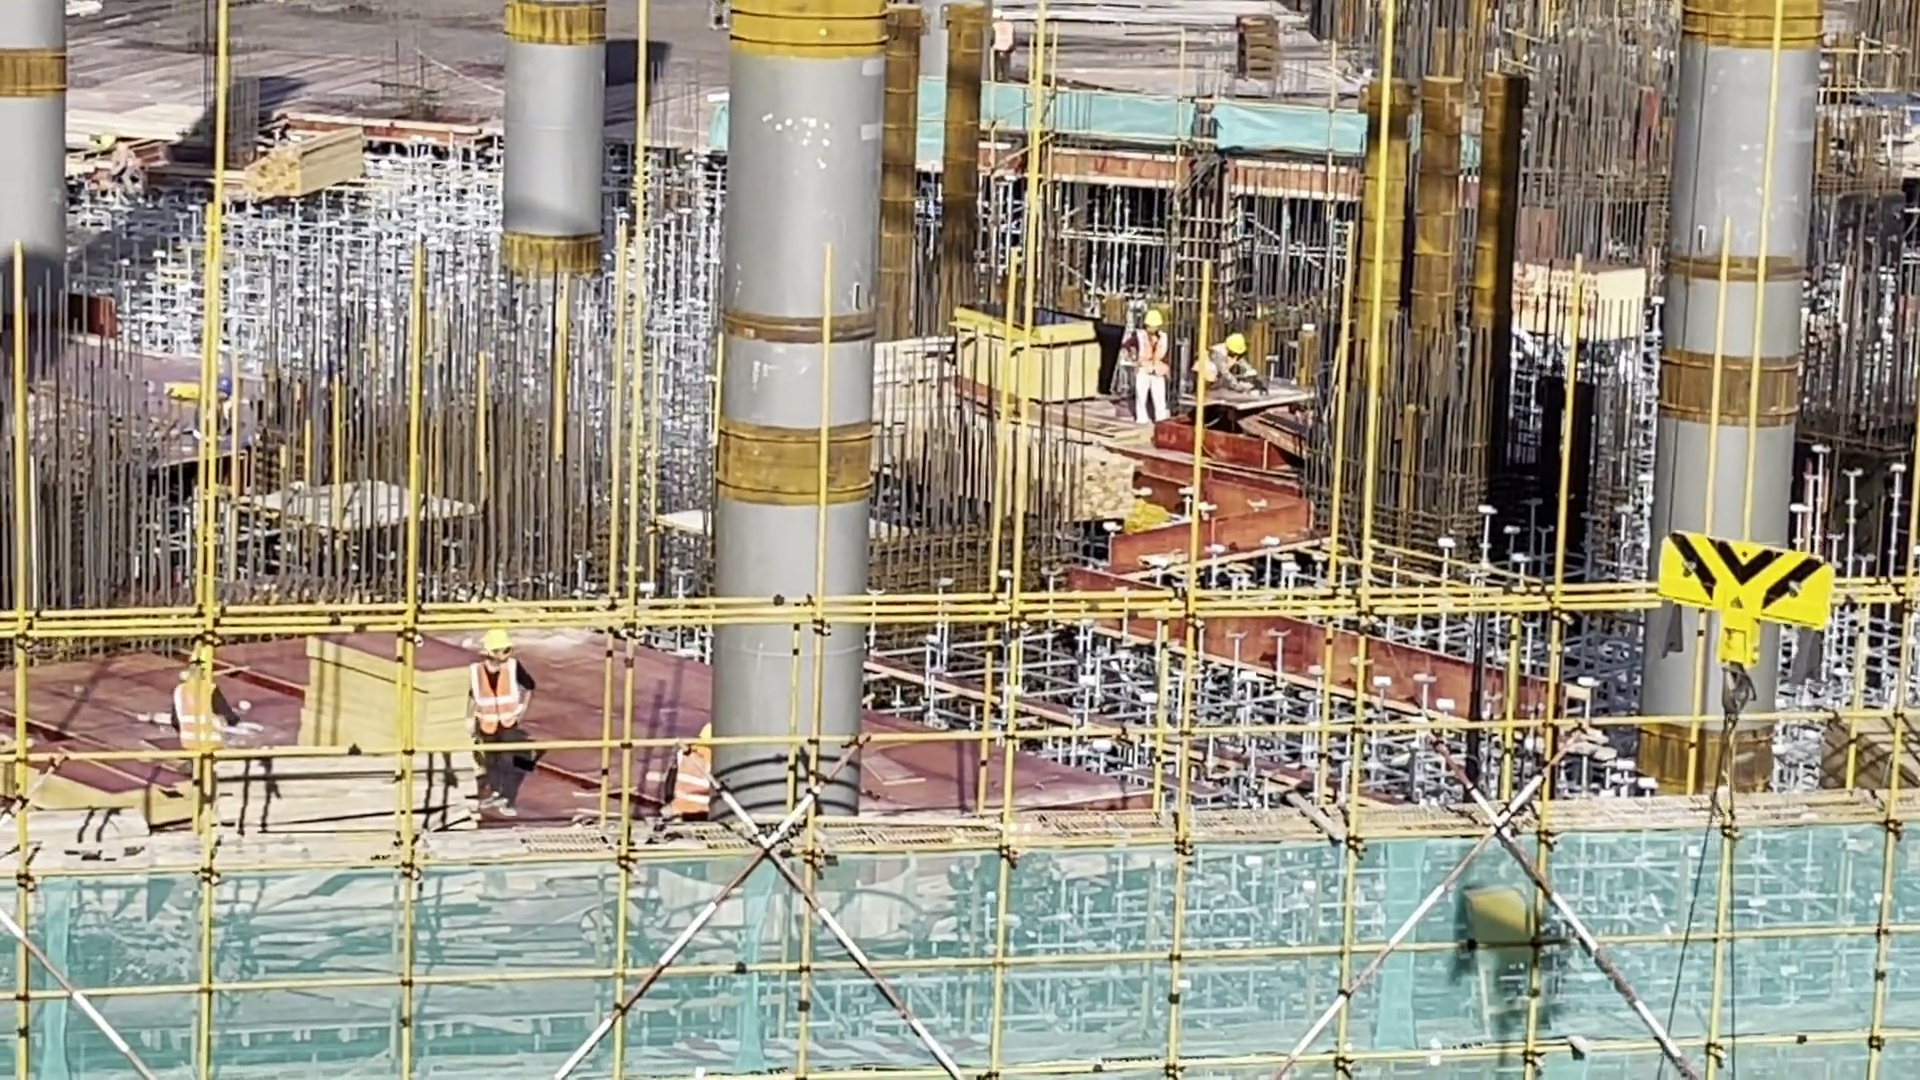board: (287, 618, 476, 798), (947, 294, 1108, 415), (1827, 694, 1920, 801)
ebox: (1466, 877, 1575, 1057)
helmet: (483, 624, 520, 664), (1140, 308, 1171, 342), (1225, 331, 1251, 366), (695, 720, 717, 746)
hook: (1643, 512, 1854, 681)
person: (475, 626, 537, 823), (652, 713, 738, 845), (169, 643, 234, 801), (1123, 291, 1176, 422), (1195, 333, 1268, 402)
vest: (656, 741, 730, 829), (163, 674, 233, 759), (470, 663, 529, 729), (1133, 326, 1170, 376)
wood: (169, 742, 476, 862), (234, 113, 359, 202)
